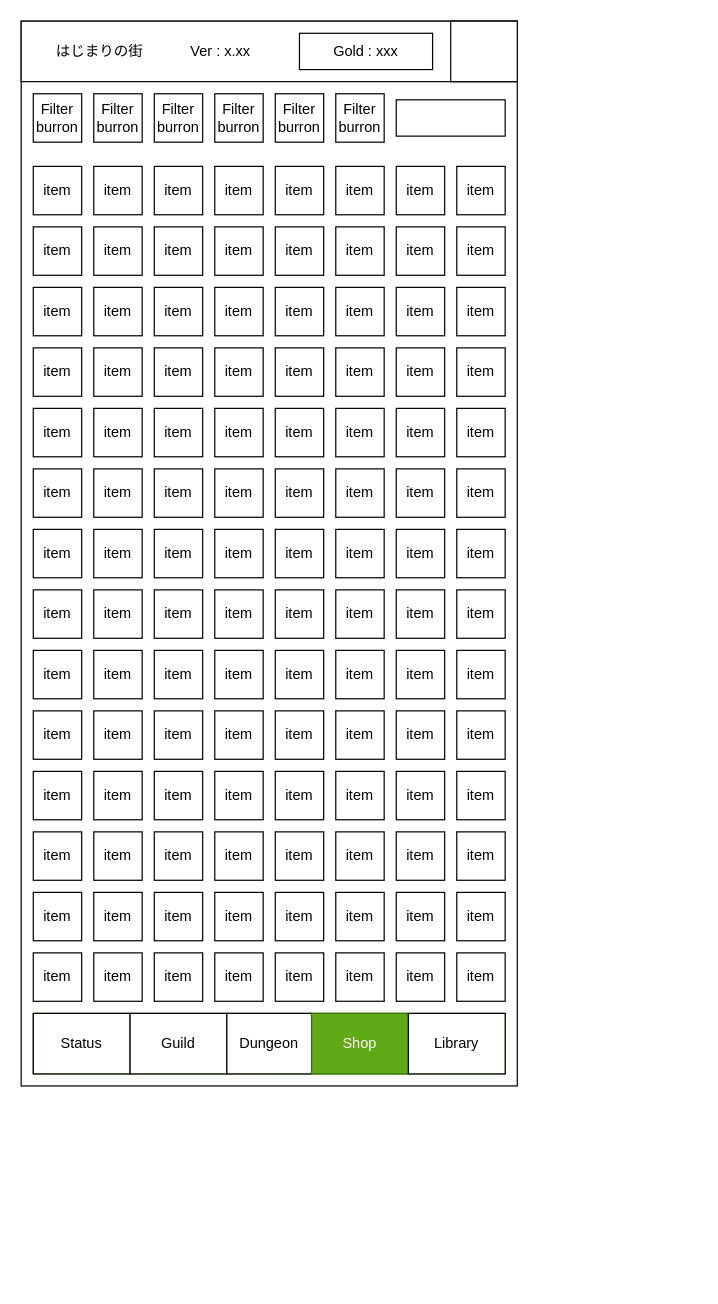
Image size: 718x1304. Some labels were removed from this diagram. Each missing label, with the centre of its shape:
Setting: point 483,51
Sort: point 450,117
